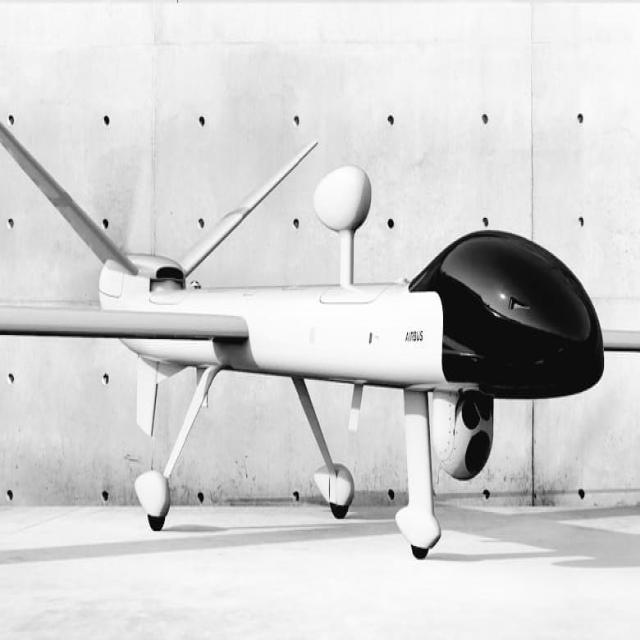iha: (0, 58, 605, 557)
